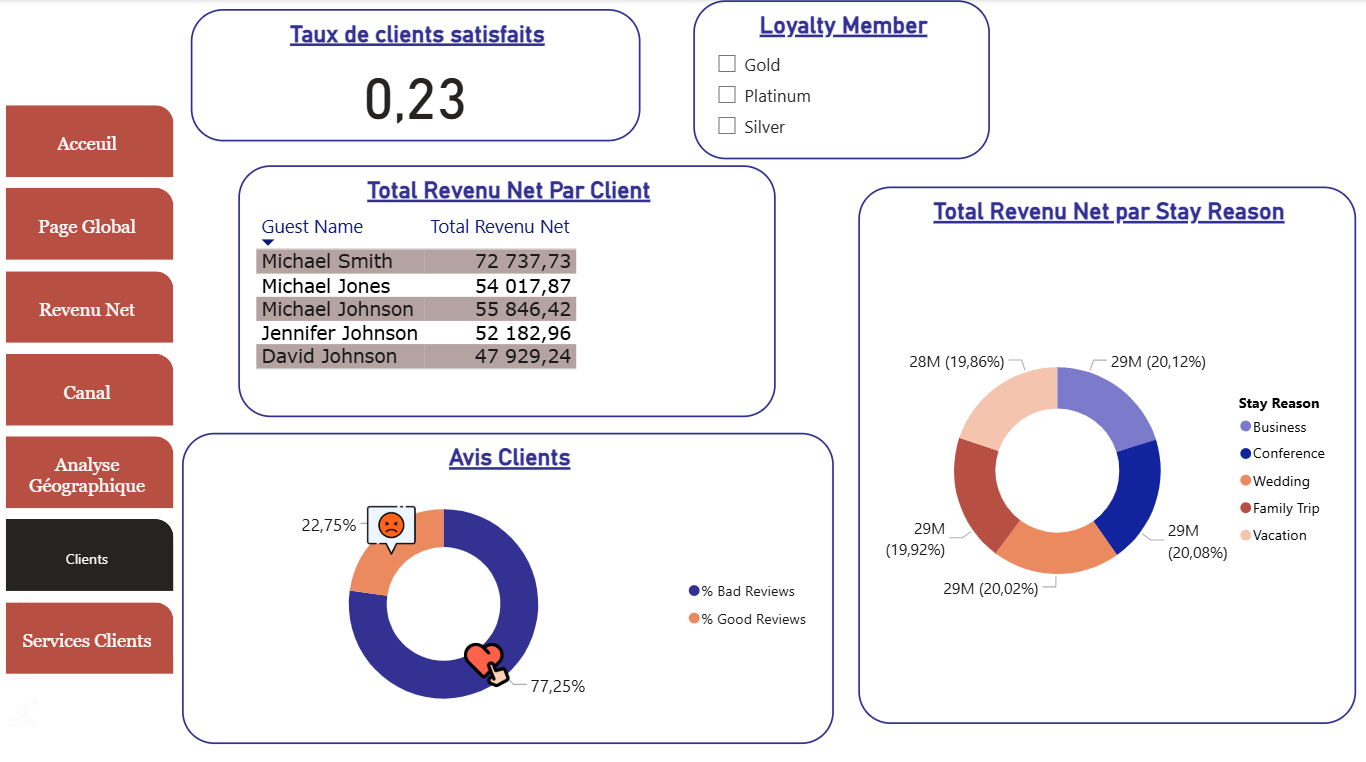

What the dashboard file says about the page in this screenshot:
{"tool":"powerbi","page":{"name":"Clients","canvas":[1280,720],"ordinal":5},"visuals":[{"type":"donutChart","title":"Avis Clients ","fields":{"Y":["Fact_Reservation.% Bad Reviews","Fact_Reservation.% Good Reviews"]},"box":[177.3,403.5,606.5,289.8],"z":0},{"type":"image","box":[341.2,464.7,62.4,58.7],"z":1000},{"type":"image","box":[431.7,590.6,57.5,57.5],"z":2000},{"type":"donutChart","fields":{"Category":["Dim_StayReason.Stay Reason"],"Y":["Fact_Reservation.Total Revenu Net"]},"box":[806.1,174.4,463.4,500],"z":3000},{"type":"slicer","title":"Loyalty Member","fields":{"Values":["Dim_Guest.Loyalty Member"]},"box":[651.8,1.2,276.4,148],"z":4000},{"type":"image","box":[0,149.2,44,74.6],"z":5000},{"type":"image","box":[0,223.8,56.3,107.6],"z":6000},{"type":"image","box":[1.2,315.5,56.3,88],"z":7000},{"type":"image","box":[0,403.5,56.3,110.1],"z":8000},{"type":"image","box":[0,523.4,64.8,116.2],"z":9000},{"type":"image","box":[0,628.5,56.3,91.7],"z":10000},{"type":"tableEx","title":"Total Revenu Net Par Client","fields":{"Values":["Dim_Guest.Guest Name","Fact_Reservation.Total Revenu Net"]},"box":[228.7,154.1,500.1,234.8],"z":11000},{"type":"card","title":"Taux de clients satisfaits","fields":{"Values":["Fact_Reservation.Satisfied Customers %"]},"box":[185.4,9.8,418.3,123.2],"z":12000},{"type":"pageNavigator","box":[12.2,99,156.5,529.5],"z":13000}]}

Visuals, with their boxes in screenshot pixels (x1, y1, x2, y2), scaled from the page's 1280x720 canvas onto the 1366x762 screenshot:
"Avis Clients " donutChart: (left=189, top=427, right=836, bottom=734)
image: (left=364, top=492, right=431, bottom=554)
image: (left=461, top=625, right=522, bottom=686)
donutChart - Dim_StayReason.Stay Reason x Fact_Reservation.Total Revenu Net: (left=860, top=185, right=1355, bottom=714)
"Loyalty Member" slicer: (left=696, top=1, right=991, bottom=158)
image: (left=0, top=158, right=47, bottom=237)
image: (left=0, top=237, right=60, bottom=351)
image: (left=1, top=334, right=61, bottom=427)
image: (left=0, top=427, right=60, bottom=544)
image: (left=0, top=554, right=69, bottom=677)
image: (left=0, top=665, right=60, bottom=761)
"Total Revenu Net Par Client" tableEx: (left=244, top=163, right=778, bottom=412)
"Taux de clients satisfaits" card: (left=198, top=10, right=644, bottom=141)
pageNavigator: (left=13, top=105, right=180, bottom=665)
